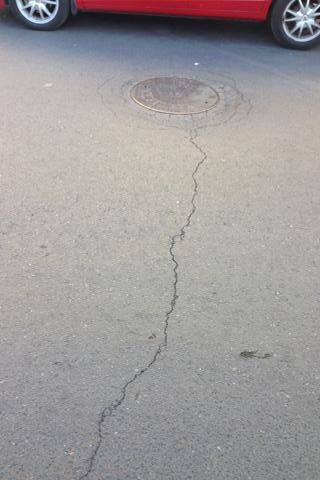A: (74, 126, 214, 480)
